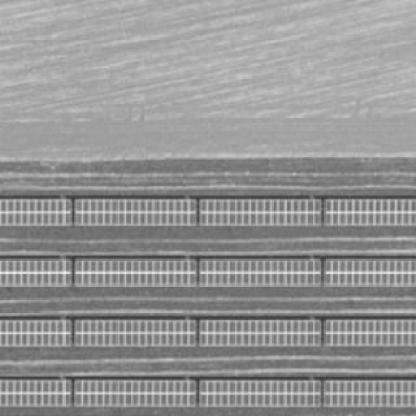solar-pv-panel: (75, 200, 198, 225), (75, 261, 198, 286), (75, 382, 198, 407), (74, 321, 196, 346), (200, 261, 322, 286), (200, 382, 322, 407), (200, 200, 322, 225), (199, 321, 321, 346), (324, 199, 416, 225), (324, 380, 416, 406), (324, 320, 416, 346), (324, 259, 416, 285), (0, 199, 72, 225), (0, 320, 72, 346), (0, 380, 72, 406), (0, 259, 72, 285)
